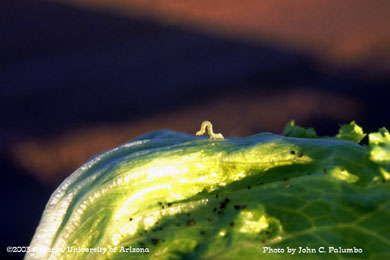cabbage: (26, 119, 389, 259)
